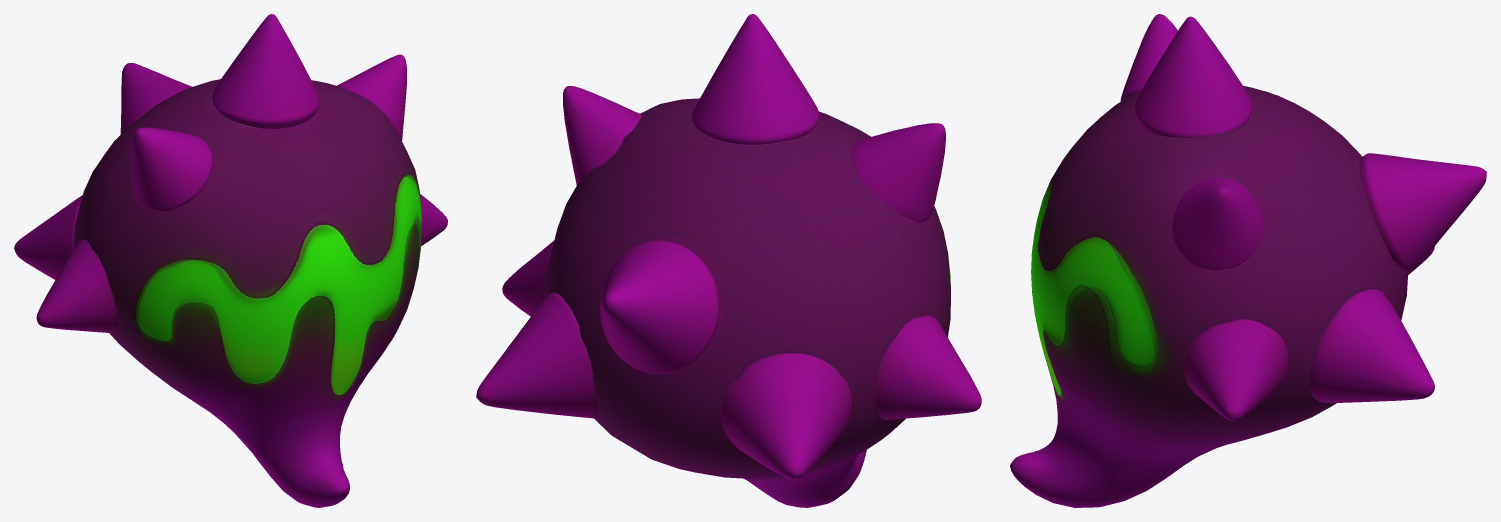
Rendered from poison.glb.
The picture shows the model from 3 angles, left to right: view 1: azimuth 30°, elevation 25°; view 2: azimuth 150°, elevation 25°; view 3: azimuth 270°, elevation 25°; orthographic projection. The views are drawn at different scales.
Visible parts, largest first — view 1: tripo_node_d4db815b-91b1-4e99-9259-53d840eeb321; view 2: tripo_node_d4db815b-91b1-4e99-9259-53d840eeb321; view 3: tripo_node_d4db815b-91b1-4e99-9259-53d840eeb321.
Part boxes in pixels (x1,y1,x2,y2): tripo_node_d4db815b-91b1-4e99-9259-53d840eeb321: [14, 14, 447, 507]; tripo_node_d4db815b-91b1-4e99-9259-53d840eeb321: [476, 14, 981, 507]; tripo_node_d4db815b-91b1-4e99-9259-53d840eeb321: [1010, 14, 1486, 507].
Size of the model in its own units: 0.9546 by 0.9995 by 0.8765.
1 material, 1 textured.
